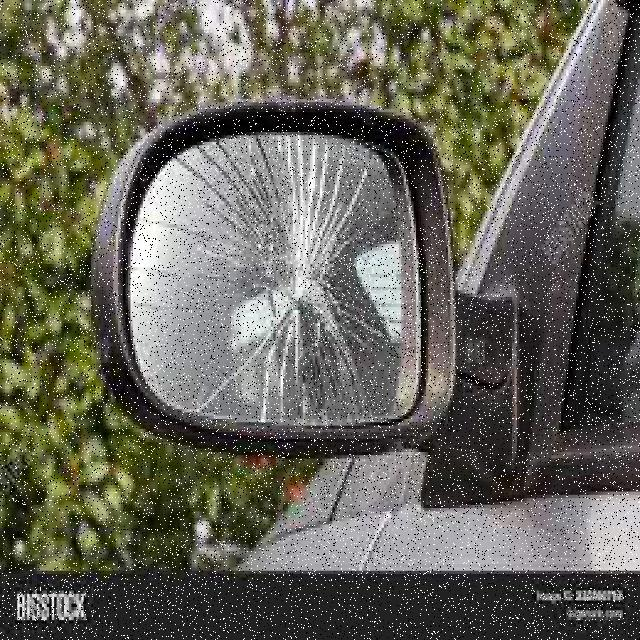Sidemirror-Damage: (108, 92, 475, 448)
